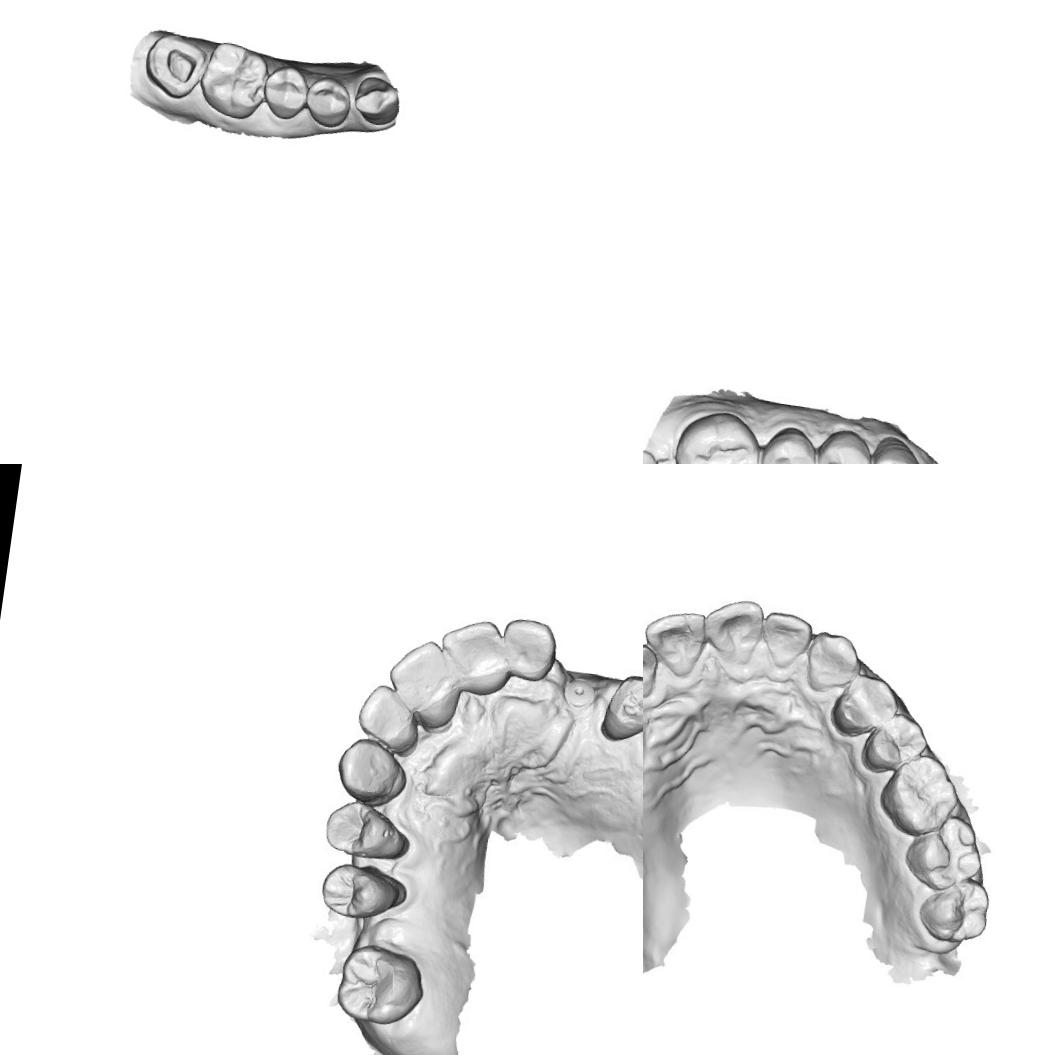canine: (333, 740, 413, 808), (805, 632, 863, 693), (350, 74, 404, 129), (867, 431, 930, 464)
implant: (562, 672, 598, 709)
incisor: (387, 640, 460, 720), (352, 686, 424, 753), (442, 619, 510, 689), (497, 613, 557, 684), (706, 595, 762, 660), (644, 608, 701, 666), (760, 608, 815, 665), (643, 642, 659, 694)
molar: (331, 939, 424, 1029), (195, 38, 275, 122), (138, 27, 211, 102), (910, 818, 986, 888), (673, 409, 767, 464), (889, 760, 957, 827), (927, 880, 993, 947)
premolar: (321, 802, 410, 866), (318, 859, 406, 922), (837, 673, 900, 738), (866, 713, 927, 770), (258, 62, 312, 123), (753, 419, 821, 464), (302, 74, 354, 130), (607, 669, 643, 733), (814, 429, 876, 464)
